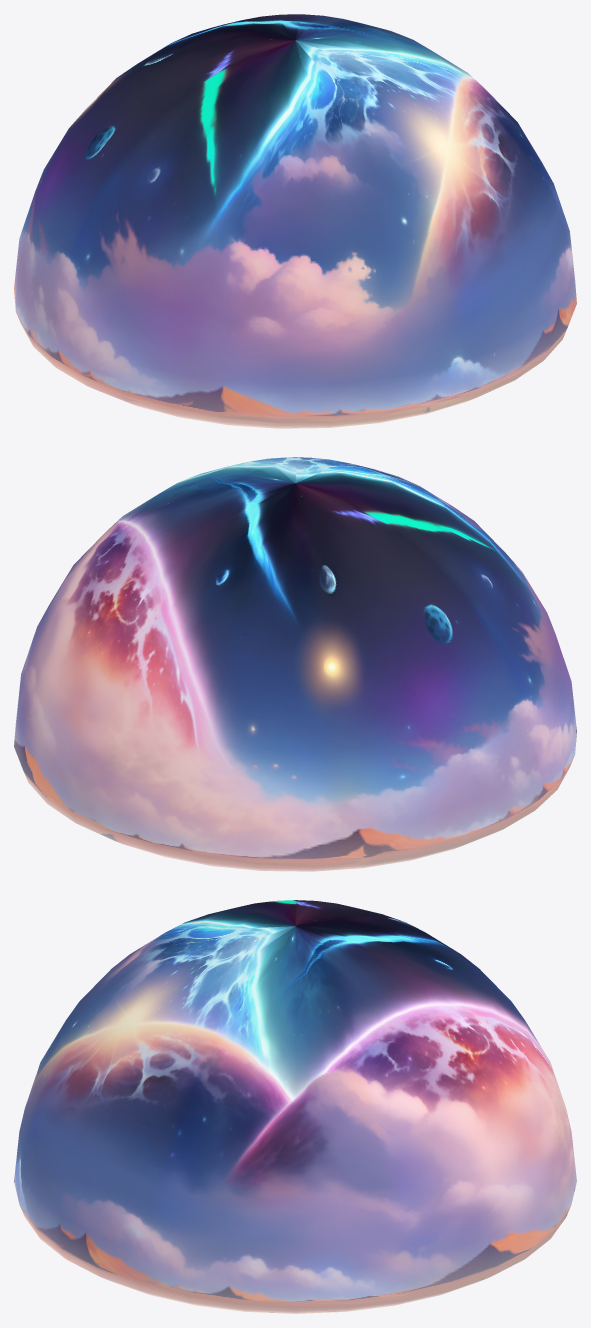
The model's file is background.glb.
The picture shows the model from 3 angles, top to bottom: view 1: azimuth 30°, elevation 25°; view 2: azimuth 150°, elevation 25°; view 3: azimuth 270°, elevation 25°; orthographic projection.
Parts seen in each view (by area): view 1: Sphere; view 2: Sphere; view 3: Sphere.
Part boxes in pixels (bbox=[...]): Sphere: bbox=[14, 14, 576, 428]; Sphere: bbox=[14, 457, 576, 871]; Sphere: bbox=[14, 900, 576, 1313].
Bounding box in the file's own units: 1051 × 584 × 1051.
2 materials, 2 textured.
